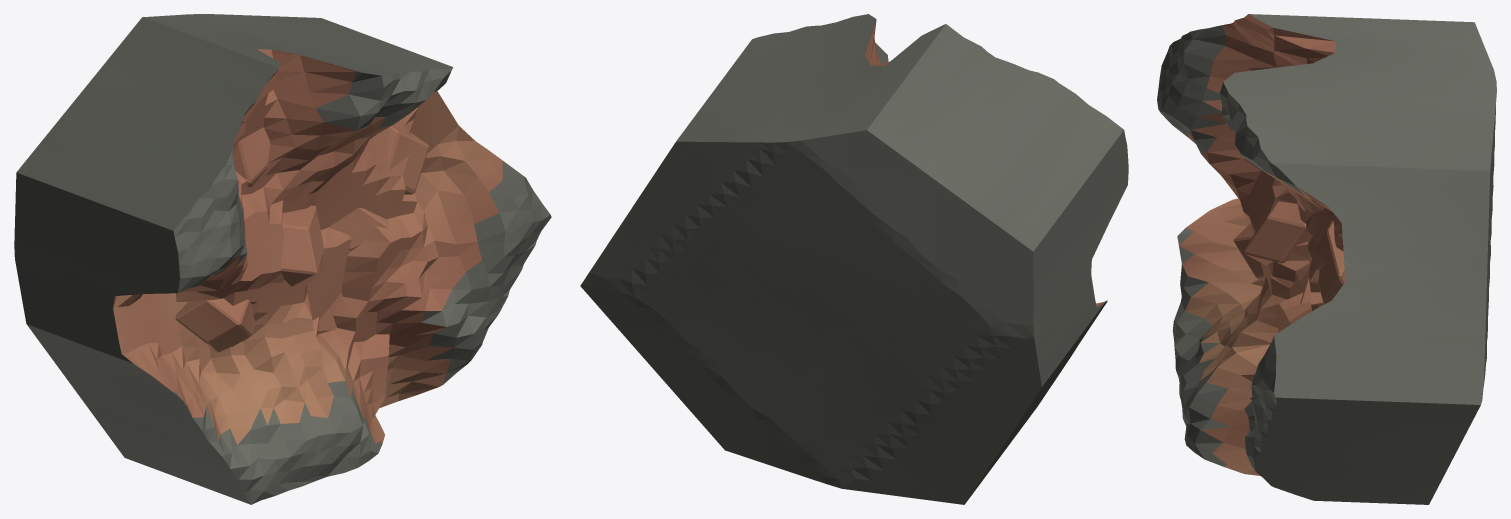
File: corealm_item_emberite_ore.glb
3 renders of one model, left to right at view 1: azimuth 30°, elevation 25°; view 2: azimuth 150°, elevation 25°; view 3: azimuth 270°, elevation 25°, orthographic. The views are drawn at different scales.
Visible parts, largest first — view 1: corealm_item_emberite_ore; view 2: corealm_item_emberite_ore; view 3: corealm_item_emberite_ore.
Boxes of the visible parts, box(x1,y1,x2,y2) form: corealm_item_emberite_ore: box(14, 14, 551, 504); corealm_item_emberite_ore: box(580, 14, 1128, 504); corealm_item_emberite_ore: box(1157, 14, 1496, 504).
Bounding box in the file's own units: 0.3097 × 0.2675 × 0.1891.
